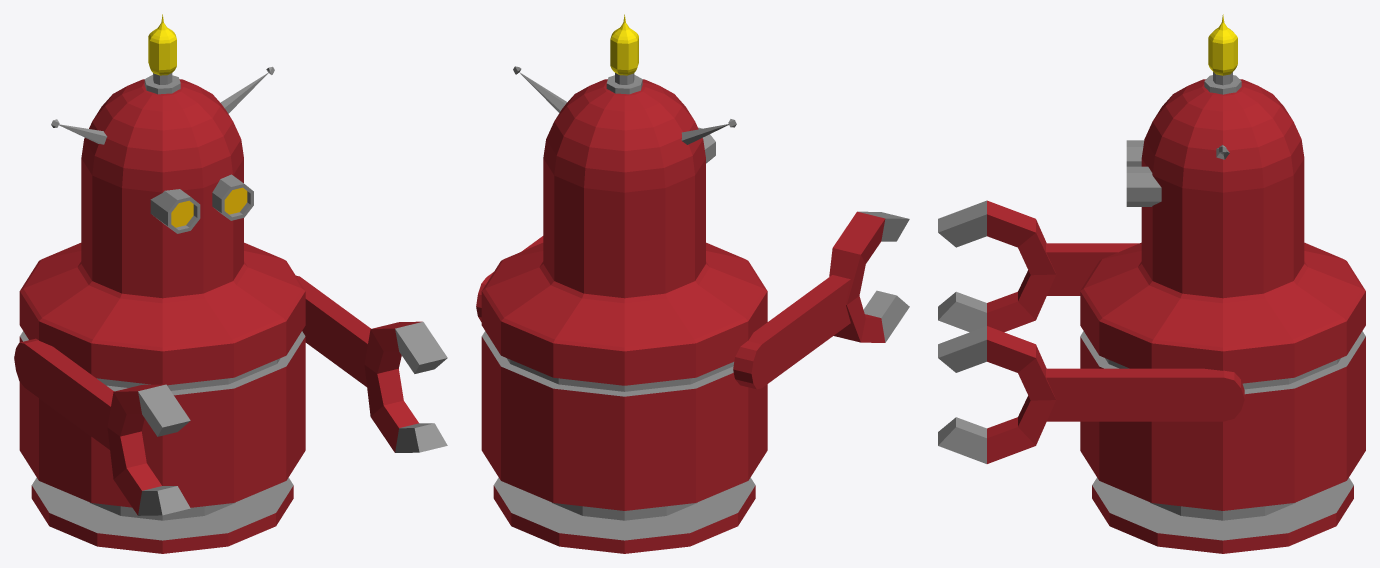
The model's file is robotito.fbx.
3 renders of one model, left to right at view 1: azimuth 30°, elevation 25°; view 2: azimuth 150°, elevation 25°; view 3: azimuth 270°, elevation 25°, orthographic.
Visible parts, largest first — view 1: RobotBody, RightArm, Leftarm, Eyes, LightBulb, Antennas; view 2: RobotBody, RightArm, LightBulb, Antennas; view 3: RobotBody, Leftarm, RightArm, LightBulb, Eyes.
Part boxes in pixels (box(x1,y1,x2,y2)): RobotBody: box(19, 79, 305, 553); RightArm: box(14, 338, 190, 515); Leftarm: box(296, 275, 447, 452); Eyes: box(150, 174, 253, 233); LightBulb: box(144, 14, 180, 94); Antennas: box(51, 66, 274, 144); RobotBody: box(481, 79, 767, 553); RightArm: box(733, 211, 909, 389); LightBulb: box(606, 14, 642, 94); Antennas: box(513, 66, 736, 144); RobotBody: box(1080, 79, 1365, 553); Leftarm: box(938, 326, 1244, 463); RightArm: box(938, 200, 1138, 332); LightBulb: box(1204, 14, 1241, 94); Eyes: box(1126, 140, 1161, 206).
Size of the model in its own units: 405 by 657 by 526.
